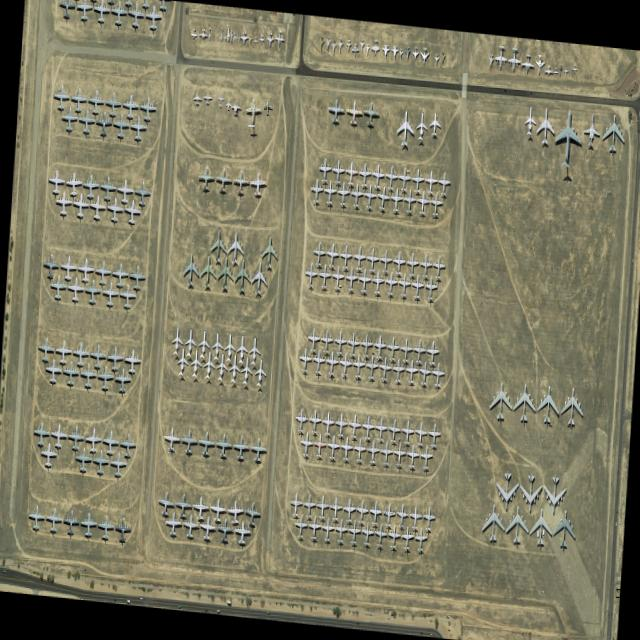plane: (552, 106, 583, 169), (600, 110, 626, 154), (559, 384, 585, 428), (535, 383, 560, 427), (504, 502, 529, 545), (494, 468, 519, 511), (481, 501, 506, 544), (528, 505, 553, 547), (551, 507, 576, 549), (512, 381, 536, 424), (488, 380, 513, 421), (541, 473, 566, 513), (517, 472, 542, 512), (580, 109, 601, 149), (395, 107, 415, 147), (535, 105, 555, 144), (232, 256, 251, 292), (215, 255, 234, 290), (198, 252, 216, 288), (181, 250, 199, 286), (259, 234, 278, 268), (226, 229, 244, 264), (249, 260, 267, 295), (208, 227, 226, 262), (243, 96, 261, 130), (122, 195, 142, 225), (36, 333, 55, 364), (91, 446, 110, 477), (65, 273, 85, 302), (103, 88, 122, 118), (144, 0, 163, 30), (242, 498, 261, 528), (207, 494, 226, 524), (155, 487, 174, 517), (105, 194, 124, 223), (122, 345, 141, 374), (48, 271, 67, 300), (66, 423, 85, 452), (197, 512, 216, 541), (178, 426, 197, 455), (41, 250, 59, 280), (101, 277, 119, 307), (52, 81, 70, 111), (44, 504, 62, 534), (46, 167, 65, 195), (58, 253, 77, 281), (43, 355, 62, 383), (83, 277, 102, 305), (111, 110, 130, 138), (126, 0, 145, 28), (113, 514, 132, 542), (73, 444, 92, 472), (180, 510, 199, 538), (196, 428, 215, 456), (71, 189, 89, 218), (88, 191, 106, 220), (77, 105, 95, 134), (118, 280, 136, 309), (138, 93, 156, 122), (61, 358, 79, 387), (213, 165, 231, 194), (232, 516, 250, 545), (39, 439, 57, 468), (109, 449, 127, 478), (161, 424, 179, 453), (132, 179, 151, 206), (115, 176, 134, 203), (190, 493, 209, 520), (374, 183, 390, 215), (361, 98, 379, 126), (344, 97, 362, 125), (98, 173, 116, 201), (79, 360, 97, 388), (96, 362, 114, 390), (121, 91, 139, 119), (69, 84, 87, 112), (49, 420, 67, 448), (79, 509, 97, 537), (27, 502, 45, 530), (119, 430, 137, 458), (101, 427, 119, 455), (248, 435, 266, 463), (163, 509, 181, 537), (173, 490, 191, 518), (404, 441, 419, 474), (196, 326, 211, 359), (326, 96, 344, 123), (54, 188, 72, 215), (94, 108, 112, 135), (113, 365, 131, 392), (129, 113, 147, 140), (32, 418, 50, 445), (231, 168, 249, 195), (96, 512, 114, 539), (215, 515, 233, 542), (231, 433, 249, 460), (383, 163, 398, 195), (427, 189, 442, 221), (436, 168, 451, 200), (409, 271, 424, 303), (385, 416, 400, 448), (412, 418, 427, 450), (426, 420, 441, 452), (252, 354, 267, 386), (201, 347, 216, 379), (89, 340, 106, 368), (87, 87, 104, 115), (62, 507, 79, 535), (109, 0, 128, 25), (76, 255, 94, 281), (93, 258, 111, 284), (106, 344, 124, 370), (71, 339, 89, 365), (196, 164, 214, 190), (248, 169, 266, 195), (225, 498, 243, 524), (401, 187, 416, 218), (361, 182, 376, 213), (329, 263, 344, 294), (396, 165, 411, 196), (424, 338, 439, 369), (399, 418, 414, 449), (311, 431, 326, 462), (351, 435, 366, 466), (372, 521, 387, 552), (376, 354, 391, 385), (297, 345, 312, 376), (367, 498, 382, 529), (407, 503, 422, 534), (239, 352, 253, 385), (227, 350, 241, 383), (188, 345, 202, 378), (60, 104, 77, 131), (214, 431, 231, 458), (430, 253, 445, 283), (346, 411, 361, 441), (81, 172, 99, 197), (370, 267, 384, 299), (357, 266, 371, 298), (423, 273, 437, 305), (360, 413, 374, 445), (324, 348, 338, 380), (319, 326, 333, 358), (381, 500, 395, 532), (65, 169, 81, 197), (183, 325, 197, 357), (214, 349, 228, 381), (175, 343, 189, 375), (111, 260, 128, 286), (54, 337, 71, 363), (128, 263, 145, 289), (308, 177, 323, 206), (506, 43, 521, 72), (415, 188, 429, 219), (330, 157, 344, 188), (343, 159, 357, 190), (357, 160, 371, 191), (396, 270, 410, 301), (423, 168, 437, 199), (418, 443, 432, 474), (359, 519, 373, 550), (333, 516, 347, 547), (332, 328, 346, 359), (328, 494, 342, 525), (293, 511, 307, 542), (430, 360, 444, 391), (493, 39, 507, 70), (349, 181, 363, 211), (322, 178, 336, 208), (317, 156, 331, 186), (370, 162, 384, 192), (418, 251, 432, 281), (383, 269, 397, 299), (311, 240, 325, 270), (324, 241, 338, 271), (365, 246, 379, 276), (325, 433, 339, 463), (293, 406, 307, 436), (307, 407, 321, 437), (333, 411, 347, 441), (373, 415, 387, 445), (386, 523, 400, 553), (391, 440, 405, 470), (365, 437, 379, 467), (346, 518, 360, 548), (364, 353, 378, 383), (337, 350, 351, 380), (311, 347, 325, 377), (345, 330, 359, 360), (358, 331, 372, 361), (404, 357, 418, 387), (416, 358, 431, 386), (320, 515, 334, 545), (315, 493, 329, 523), (341, 496, 355, 526), (421, 504, 435, 534), (523, 104, 536, 136), (170, 323, 183, 355), (223, 330, 236, 362), (247, 333, 260, 365), (85, 426, 101, 452), (92, 0, 110, 23), (303, 261, 317, 290), (351, 245, 365, 274), (391, 249, 405, 278), (320, 408, 334, 437), (351, 352, 365, 381), (372, 332, 386, 361), (336, 179, 349, 210), (379, 247, 392, 278), (415, 109, 428, 140), (400, 523, 413, 554), (412, 337, 425, 368), (379, 438, 392, 469), (386, 334, 399, 365), (399, 336, 412, 367), (391, 356, 404, 387), (307, 513, 320, 544), (235, 332, 248, 363), (413, 525, 427, 553), (338, 434, 352, 462), (405, 250, 418, 280), (344, 265, 357, 295), (317, 262, 330, 292), (338, 243, 351, 273), (299, 430, 312, 460), (289, 490, 302, 520), (355, 497, 368, 527), (210, 329, 223, 359), (394, 501, 408, 528), (306, 326, 319, 355), (302, 492, 315, 521), (389, 186, 402, 214), (410, 167, 424, 193), (76, 0, 93, 21), (520, 48, 534, 73), (57, 0, 75, 19), (428, 110, 441, 136), (534, 52, 544, 75), (273, 28, 284, 48), (229, 97, 241, 115), (419, 45, 429, 65), (261, 97, 272, 114), (380, 42, 389, 60), (389, 44, 398, 61), (370, 38, 379, 55), (486, 52, 494, 69), (192, 90, 201, 105), (543, 63, 553, 76), (265, 31, 273, 47), (411, 45, 419, 61), (336, 35, 343, 53), (324, 35, 331, 53), (317, 34, 324, 52), (239, 30, 248, 44), (202, 91, 212, 103), (350, 42, 358, 56), (197, 27, 207, 38), (404, 45, 410, 63), (330, 38, 336, 54), (439, 50, 445, 66), (189, 26, 197, 38), (216, 93, 224, 105), (345, 38, 351, 53), (358, 37, 364, 52), (224, 97, 231, 109), (258, 33, 264, 45), (433, 52, 439, 64), (571, 63, 577, 75), (364, 42, 369, 55), (398, 47, 403, 60), (247, 33, 252, 45), (252, 36, 258, 45), (562, 66, 568, 74), (558, 64, 562, 76), (553, 66, 558, 75)
small-vehicle: (419, 630, 422, 634), (631, 257, 633, 263), (139, 596, 142, 599), (126, 599, 129, 602), (204, 607, 207, 610), (2, 568, 5, 571), (445, 615, 448, 618), (429, 632, 432, 635), (503, 88, 506, 90), (529, 90, 531, 93), (177, 605, 180, 607), (616, 507, 617, 512), (615, 520, 616, 525)
